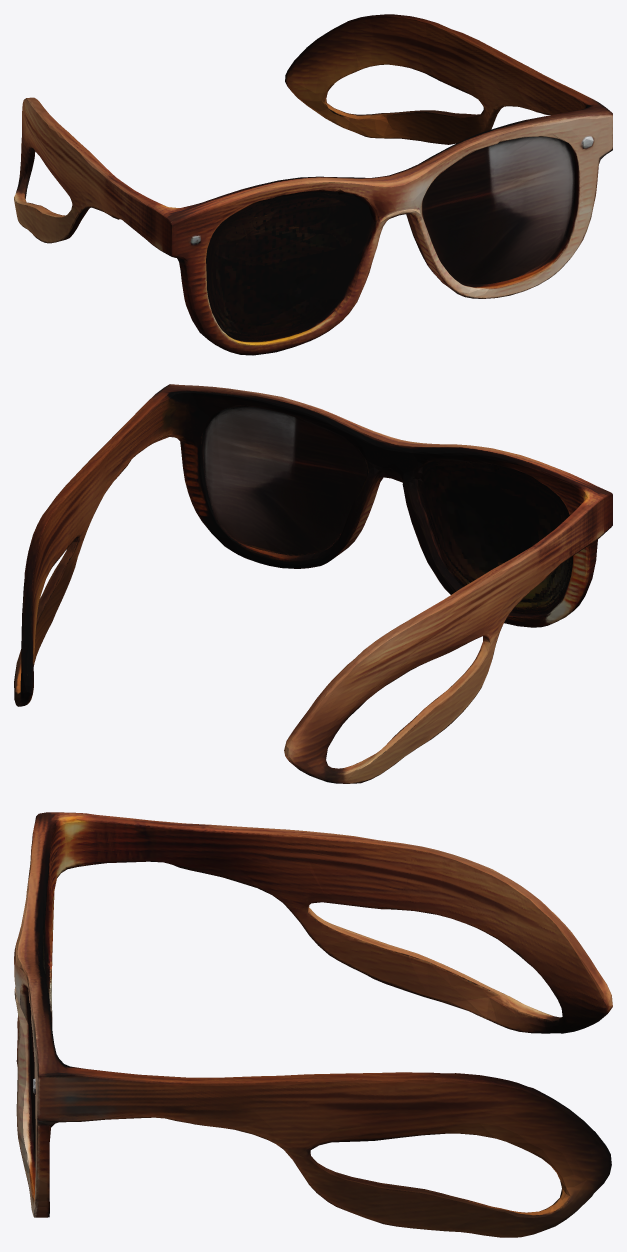
File: wooden-sunglasses-rustic.jpeg.glb
3 renders of one model, top to bottom at view 1: azimuth 30°, elevation 25°; view 2: azimuth 150°, elevation 25°; view 3: azimuth 270°, elevation 25°, orthographic. The views are drawn at different scales.
Visible parts, largest first — view 1: world; view 2: world; view 3: world.
Part boxes in pixels (box(x1,y1,x2,y2)): world: box(14, 14, 612, 355); world: box(14, 384, 612, 783); world: box(14, 812, 612, 1237).
Size of the model in its own units: 1 by 0.3608 by 0.9603.
Materials: 1 (1 with a texture image).
